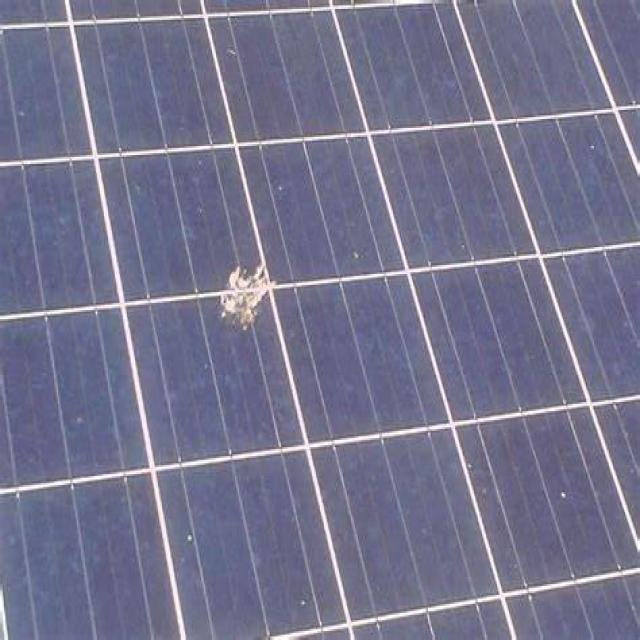soiled: (100, 154, 298, 464)
